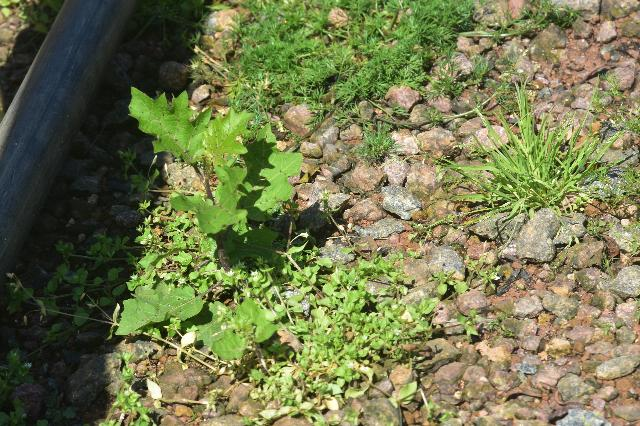MalezaMontesDelPlata: (118, 85, 322, 383), (247, 243, 490, 423), (194, 0, 477, 102), (421, 82, 626, 215), (0, 227, 149, 369), (441, 0, 580, 44), (138, 0, 227, 49), (341, 115, 407, 168)
